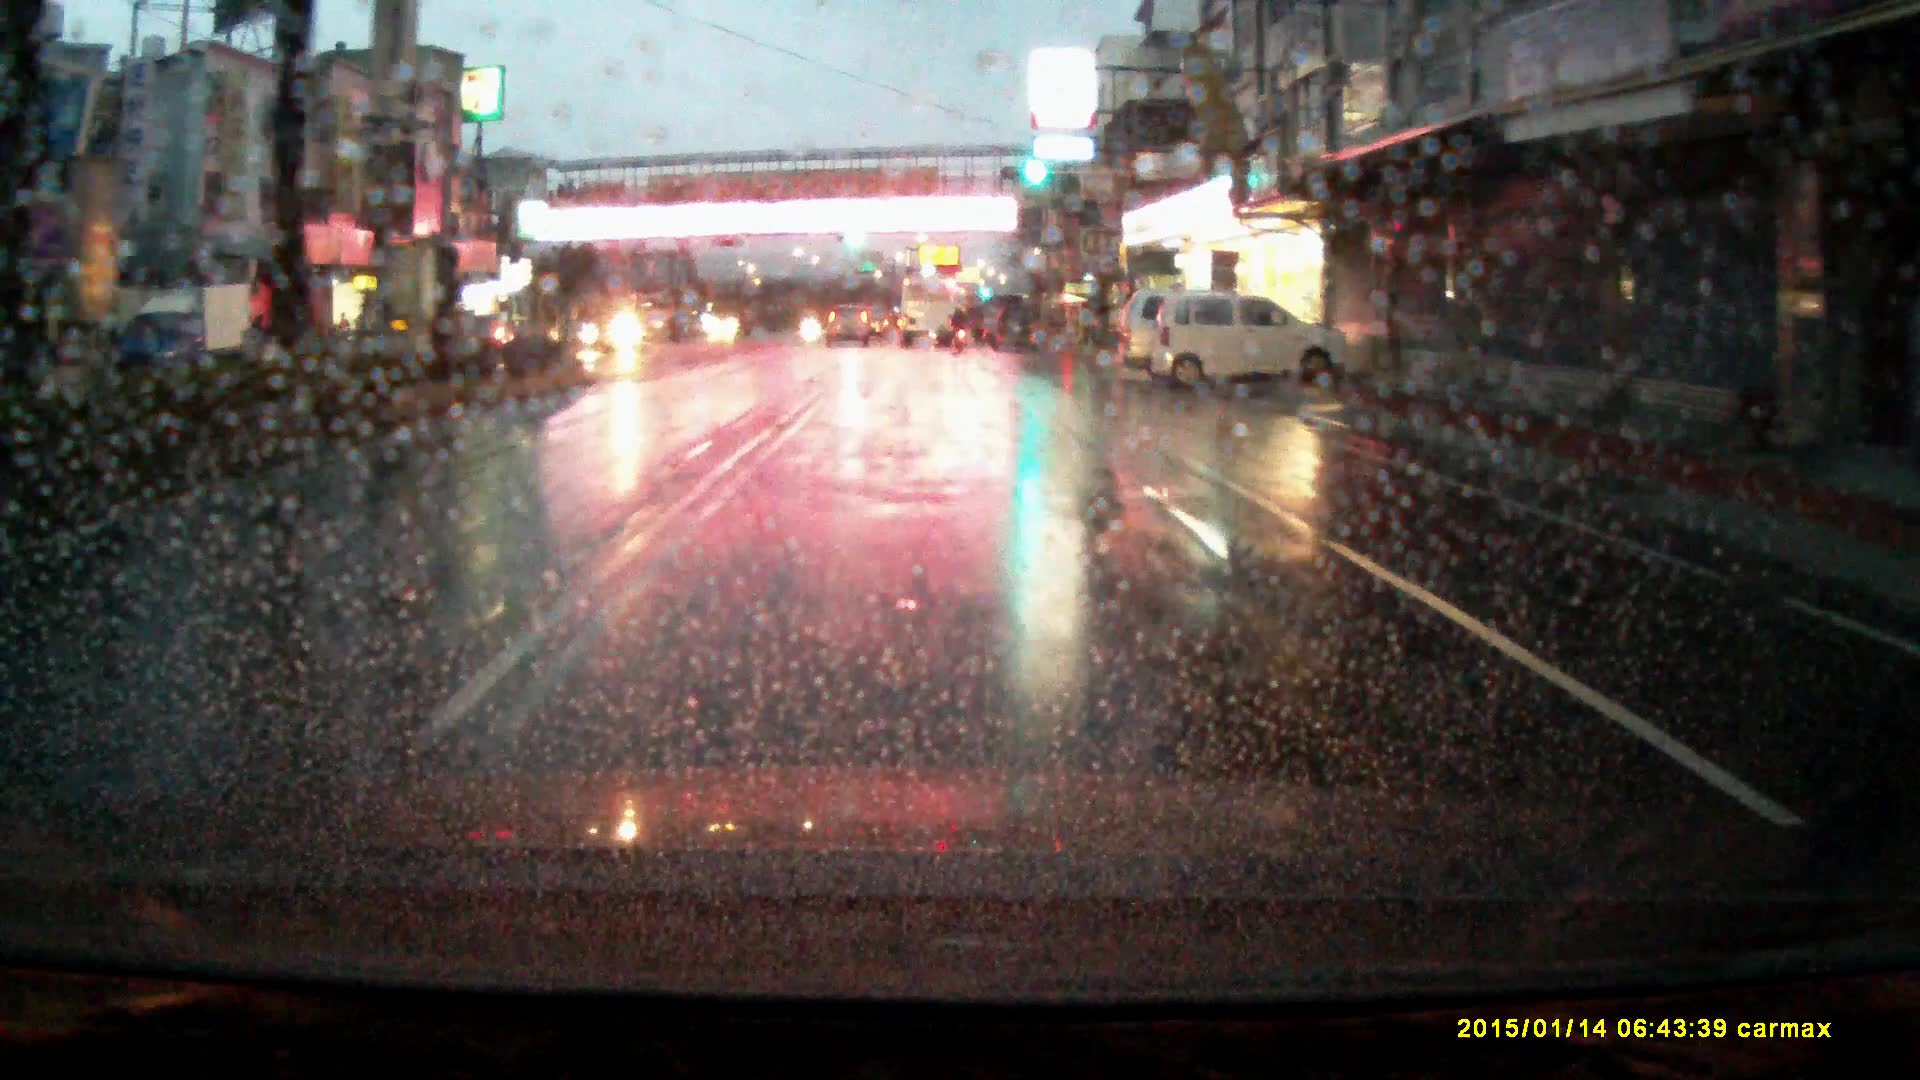rider: (951, 303, 971, 352)
vehicle: (1150, 288, 1352, 391), (128, 281, 260, 370), (1114, 288, 1239, 378), (579, 291, 664, 351), (900, 276, 951, 345), (989, 301, 1039, 352), (827, 302, 870, 346)
